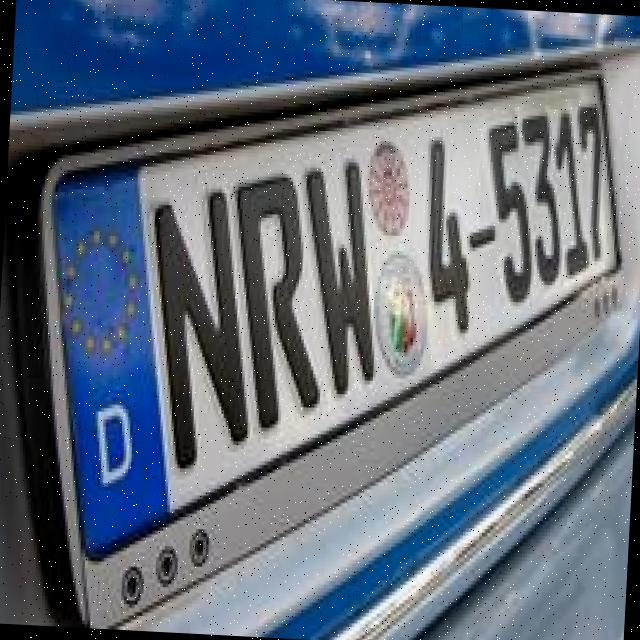Allemagne: (57, 169, 178, 560)
EU: (53, 72, 623, 555)
